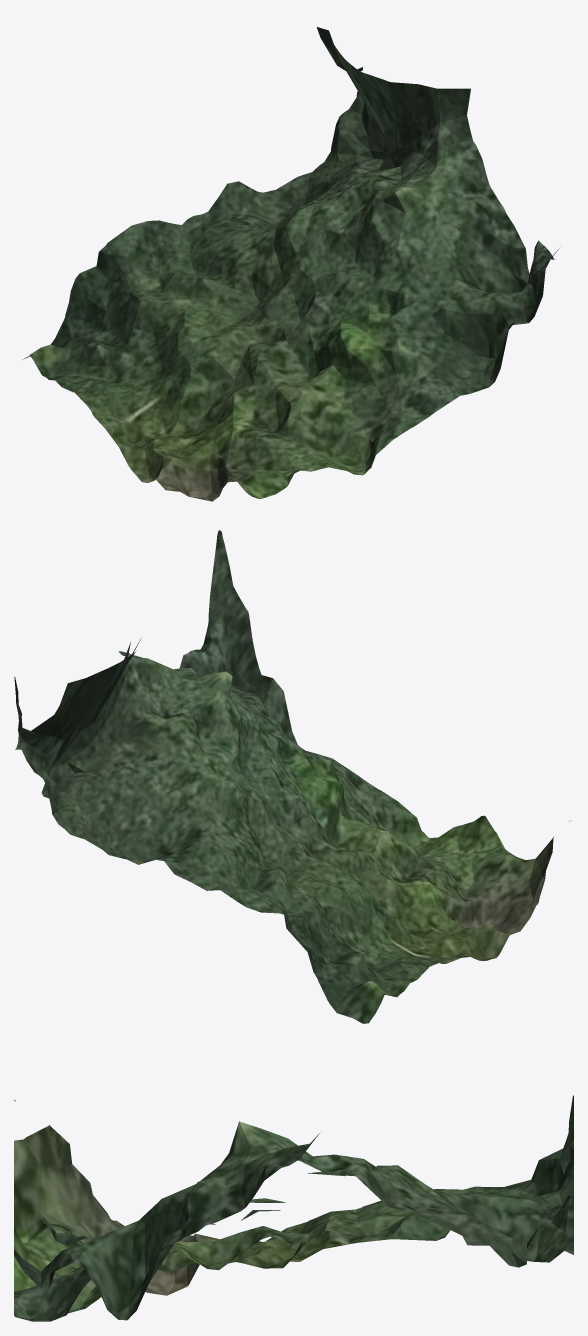
The picture shows the model from 3 angles, top to bottom: view 1: azimuth 30°, elevation 25°; view 2: azimuth 150°, elevation 25°; view 3: azimuth 270°, elevation 25°; orthographic projection. The views are drawn at different scales.
Bounding box in the file's own units: 5.9 × 4.74 × 5.9.
Materials: 3 (3 with a texture image).
